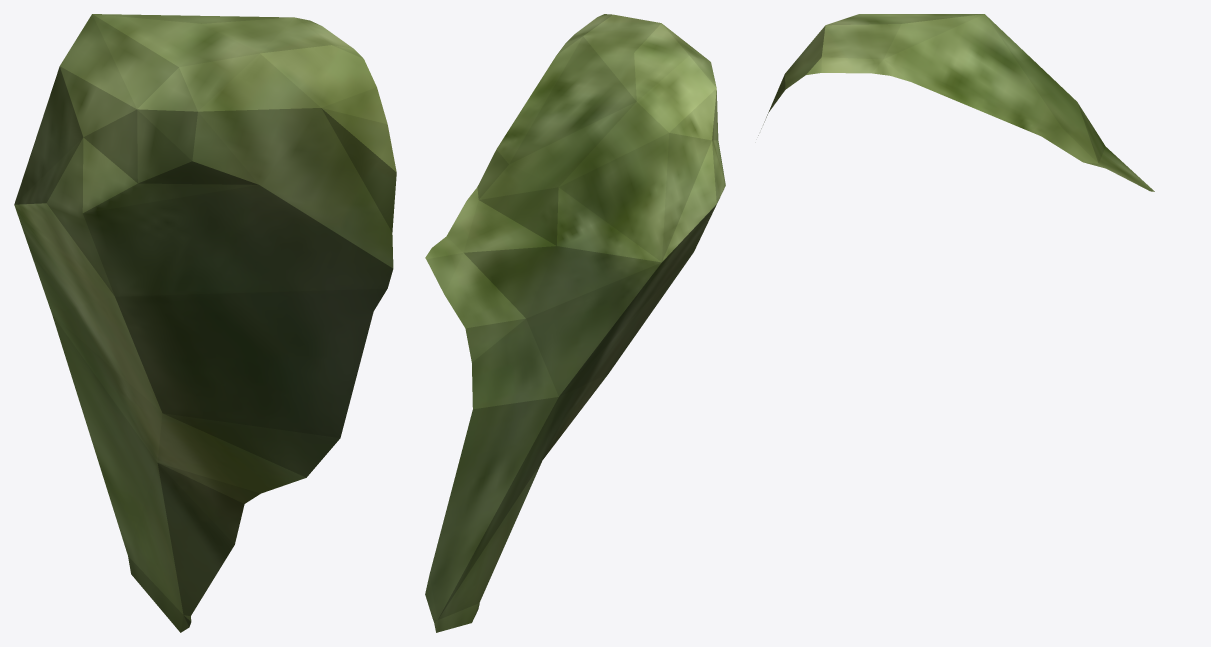
3 views of the same model, side by side, from view 1: azimuth 30°, elevation 25°; view 2: azimuth 150°, elevation 25°; view 3: azimuth 270°, elevation 25° (orthographic). The views are drawn at different scales.
Bounding box in the file's own units: 0.4504 × 1.32 × 0.9273.
1 material, 1 textured.
